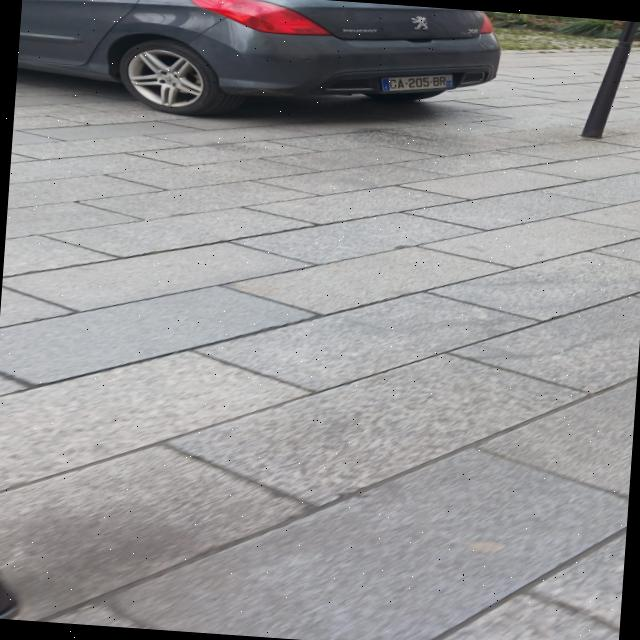Autre: (377, 71, 470, 94)
